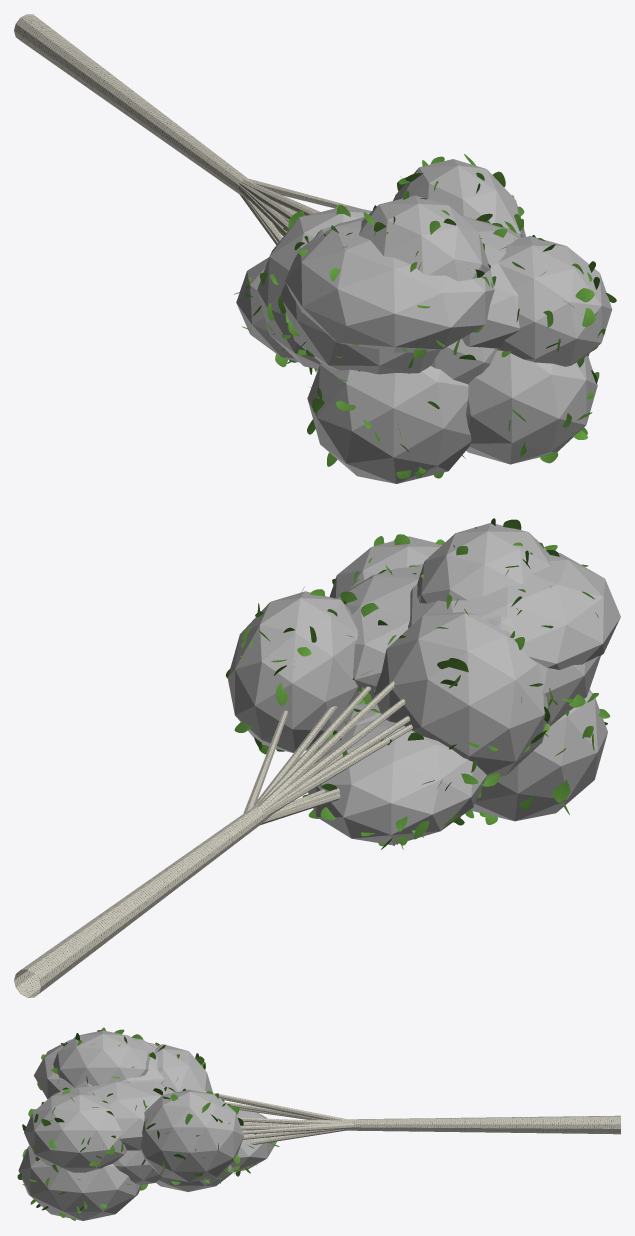
File: Tree_02_Birch.obj
3 views of the same model, one above another, from view 1: azimuth 30°, elevation 25°; view 2: azimuth 150°, elevation 25°; view 3: azimuth 270°, elevation 25° (orthographic). The views are drawn at different scales.
Parts seen in each view (by area): view 1: canopy, trunk, leaves; view 2: canopy, trunk, leaves; view 3: canopy, trunk, leaves.
Boxes of the visible parts, box(x1,y1,x2,y2) form: canopy: box(236, 159, 612, 483); trunk: box(14, 14, 358, 244); leaves: box(234, 154, 616, 480); canopy: box(227, 523, 620, 845); trunk: box(14, 681, 412, 997); leaves: box(225, 518, 610, 849); canopy: box(18, 1030, 276, 1220); trunk: box(203, 1091, 620, 1144); leaves: box(17, 1027, 279, 1220).
Size of the model in its own units: 3.37 by 3.11 by 10.12.
Materials: 3 (2 with a texture image).
